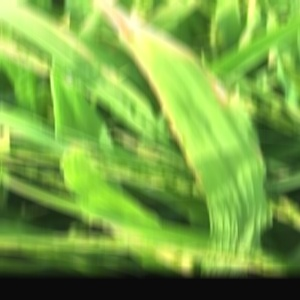Leaf_Blast: (134, 0, 228, 225)
